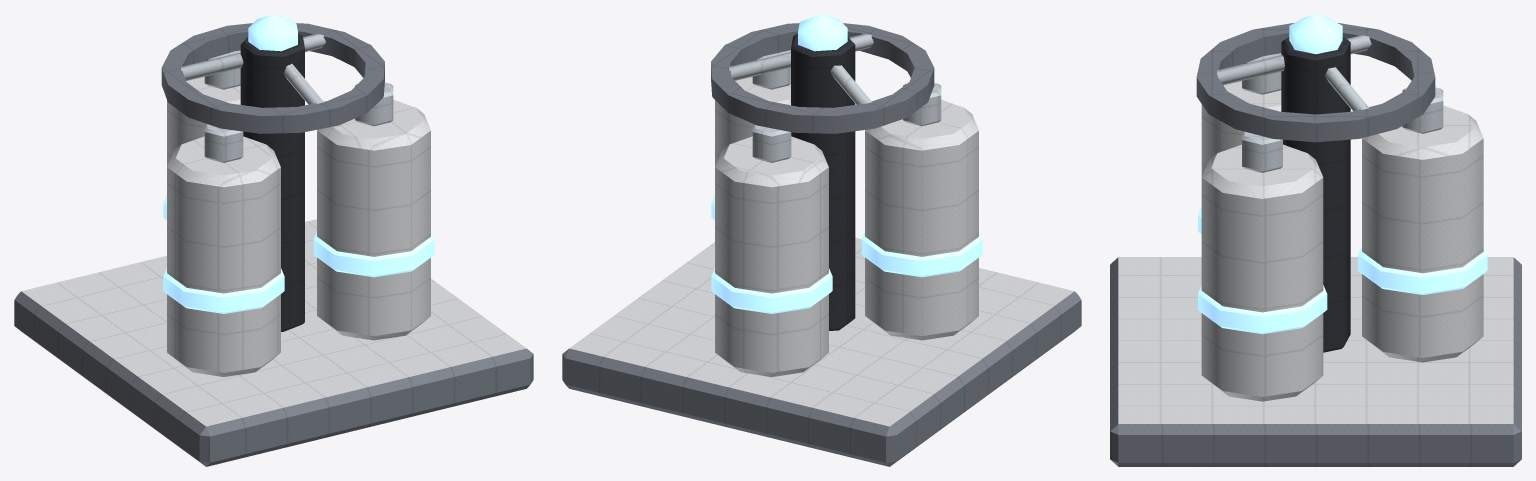
The model's file is R4X_ChargeRegenerator_LOD1.glb.
3 views of the same model, side by side, from view 1: azimuth 30°, elevation 25°; view 2: azimuth 150°, elevation 25°; view 3: azimuth 270°, elevation 25° (orthographic). The views are drawn at different scales.
Parts seen in each view (by area): view 1: R4X_ChargeRegenerator_LOD1; view 2: R4X_ChargeRegenerator_LOD1; view 3: R4X_ChargeRegenerator_LOD1.
Part boxes in pixels (bbox=[...]): R4X_ChargeRegenerator_LOD1: bbox=[14, 14, 533, 466]; R4X_ChargeRegenerator_LOD1: bbox=[562, 14, 1081, 466]; R4X_ChargeRegenerator_LOD1: bbox=[1110, 14, 1521, 466].
Bounding box in the file's own units: 0.52 × 0.515 × 0.52.
5 materials, 4 textured.
